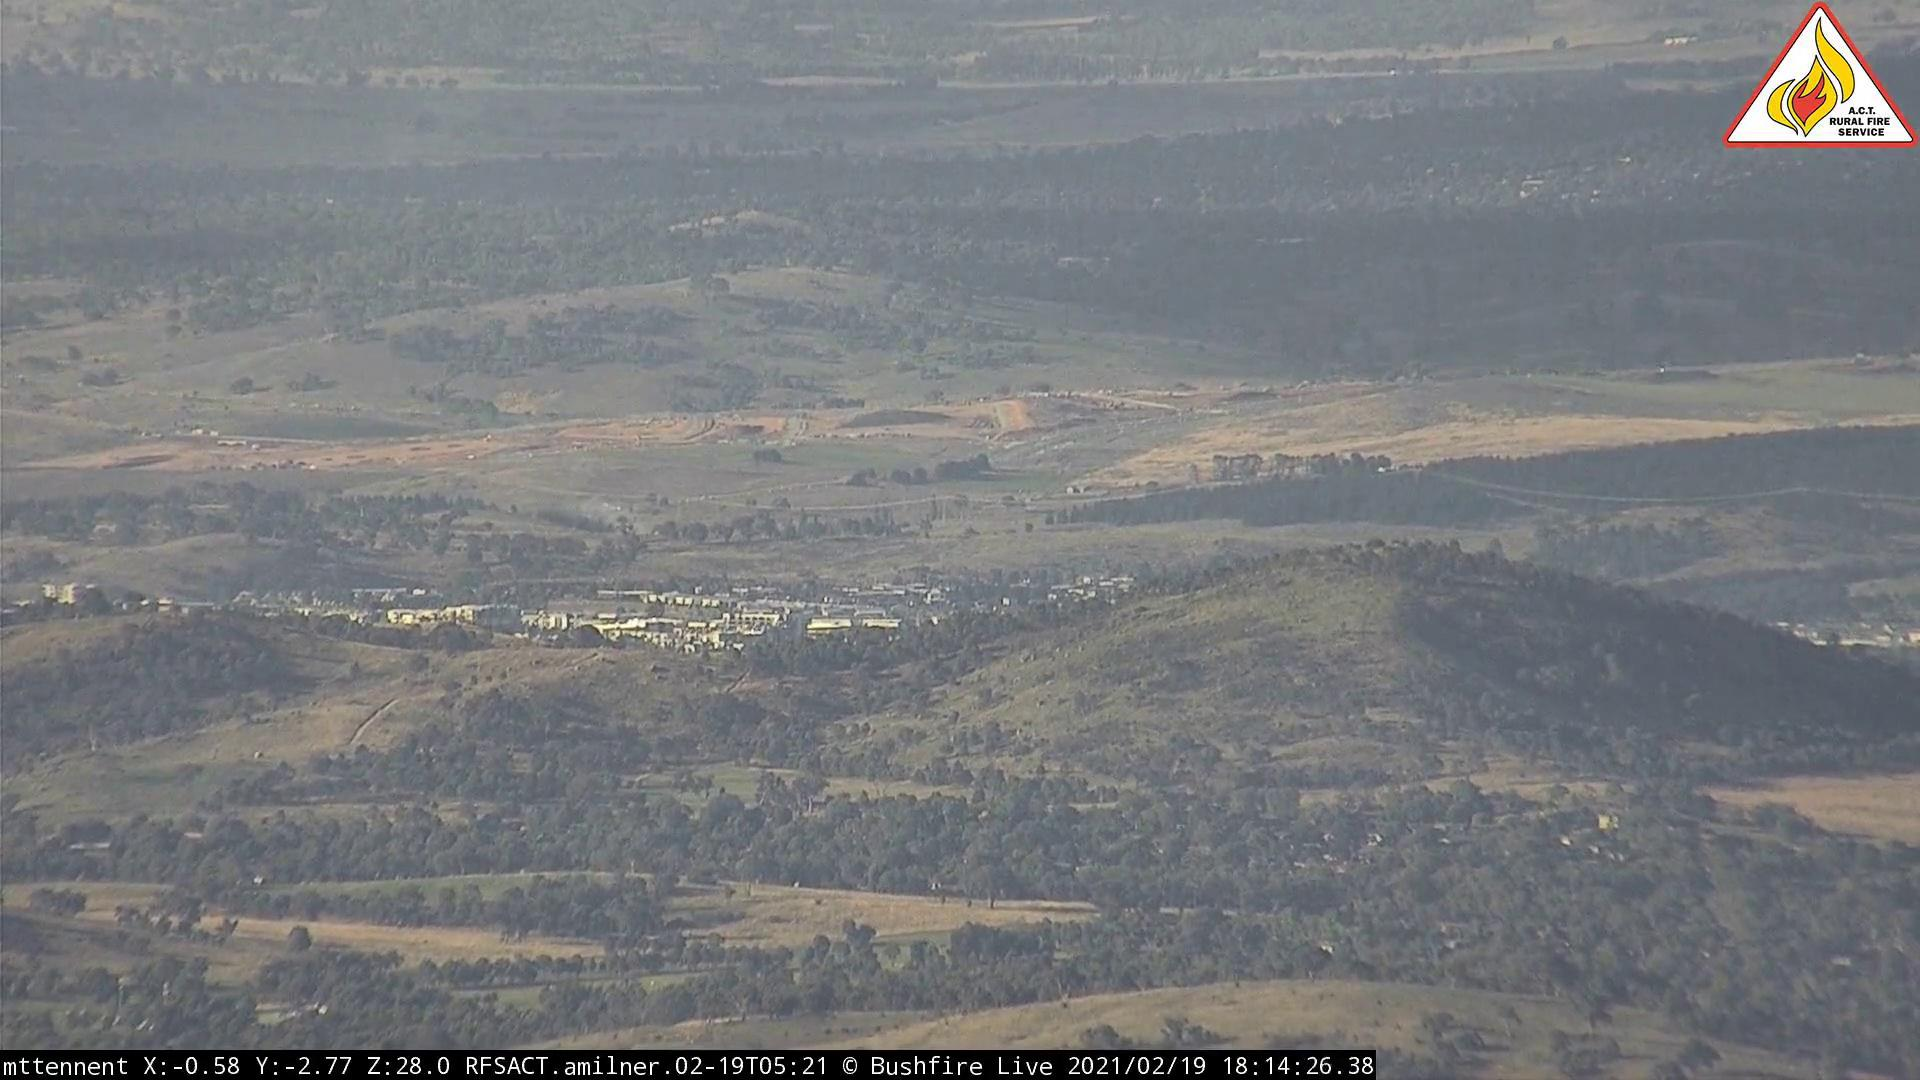Smoke: (607, 512, 649, 535)
